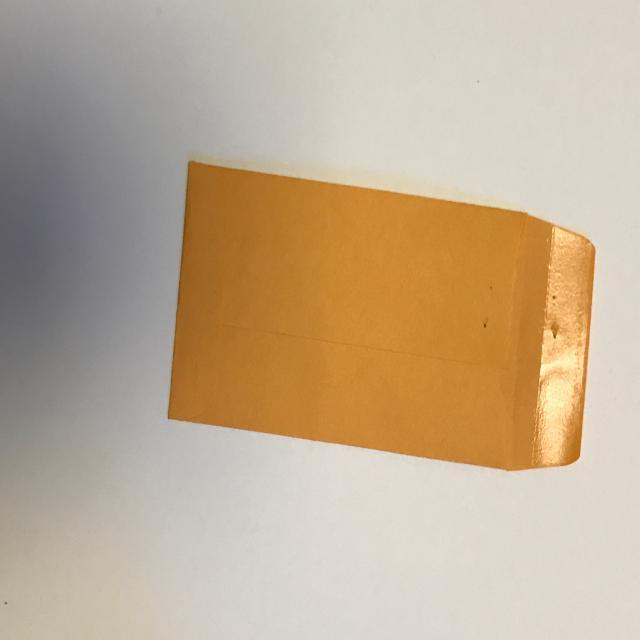paper: (168, 158, 596, 473)
